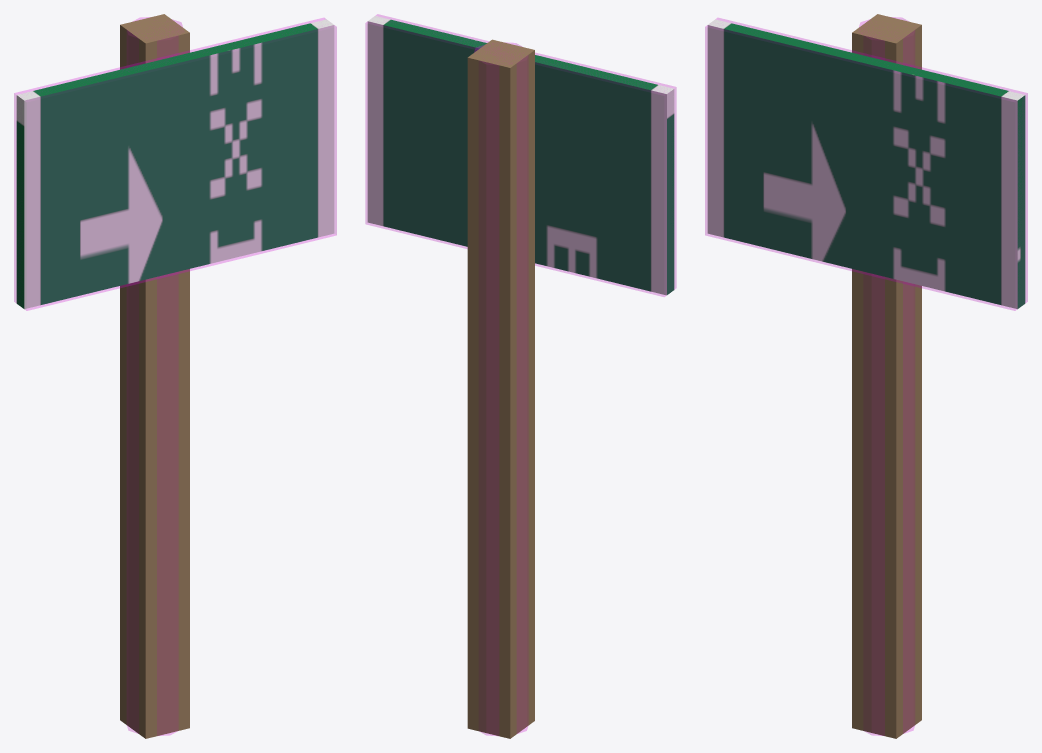
The model's file is exit_up.dae.
3 renders of one model, left to right at view 1: azimuth 30°, elevation 25°; view 2: azimuth 150°, elevation 25°; view 3: azimuth 330°, elevation 25°, orthographic. The views are drawn at different scales.
Visible parts, largest first — view 1: sign, Colmesh_sign-1, post, Colmesh_post-1; view 2: sign, post, Colmesh_sign-1, Colmesh_post-1; view 3: sign, Colmesh_sign-1, post, Colmesh_post-1.
Boxes of the visible parts, left/top/right/bottom form: sign: left=16, top=19, right=334, bottom=309; Colmesh_sign-1: left=14, top=18, right=336, bottom=310; post: left=120, top=14, right=189, bottom=738; Colmesh_post-1: left=127, top=17, right=182, bottom=735; sign: left=367, top=16, right=674, bottom=295; post: left=467, top=39, right=534, bottom=738; Colmesh_sign-1: left=365, top=14, right=676, bottom=296; Colmesh_post-1: left=474, top=42, right=527, bottom=735; sign: left=707, top=19, right=1025, bottom=309; Colmesh_sign-1: left=705, top=18, right=1027, bottom=310; post: left=852, top=14, right=921, bottom=738; Colmesh_post-1: left=859, top=17, right=914, bottom=735.
Size of the model in its own units: 0.7 by 0.165 by 1.5.
3 materials, 1 textured.
